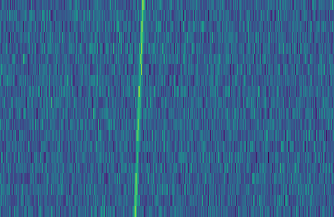signal: (129, 0, 146, 217)
